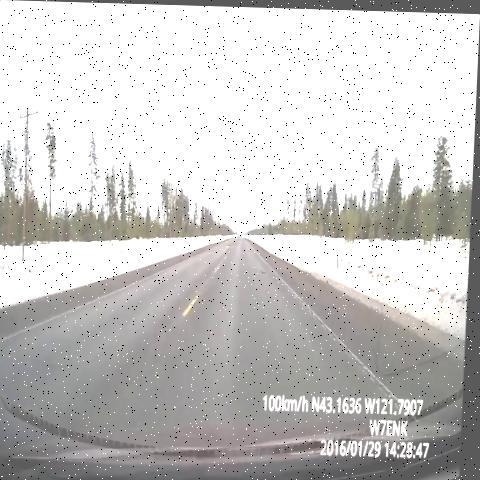pothole: (258, 259, 274, 286), (224, 238, 239, 251), (249, 241, 259, 254)
